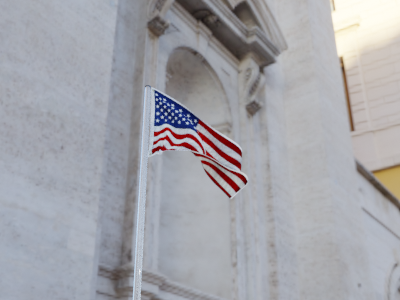America flag: (150, 88, 248, 200)
